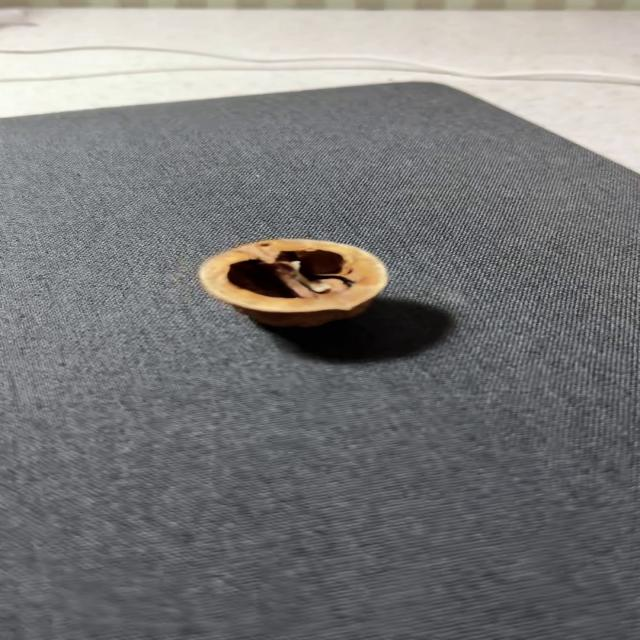nuts-bad0.5: (199, 238, 388, 327)
